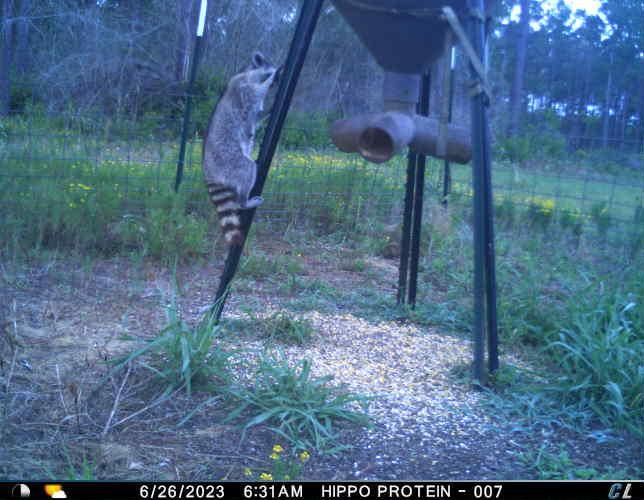Raccoon: (199, 46, 284, 247)
